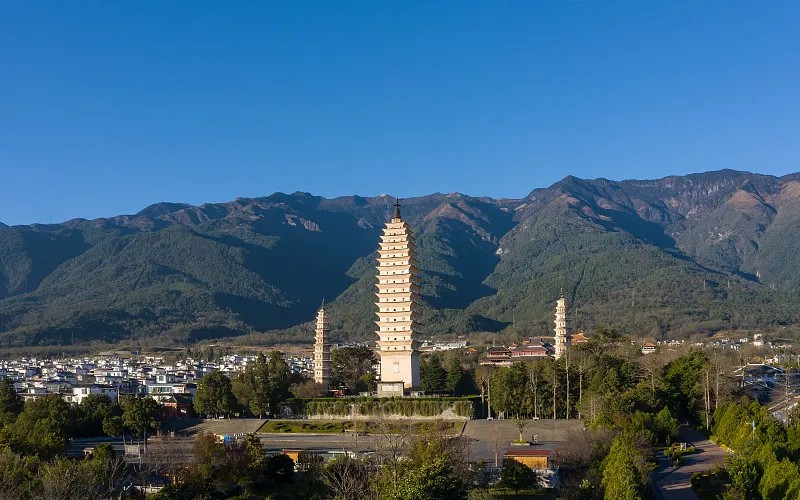ThreePagoda: (375, 198, 423, 387)
